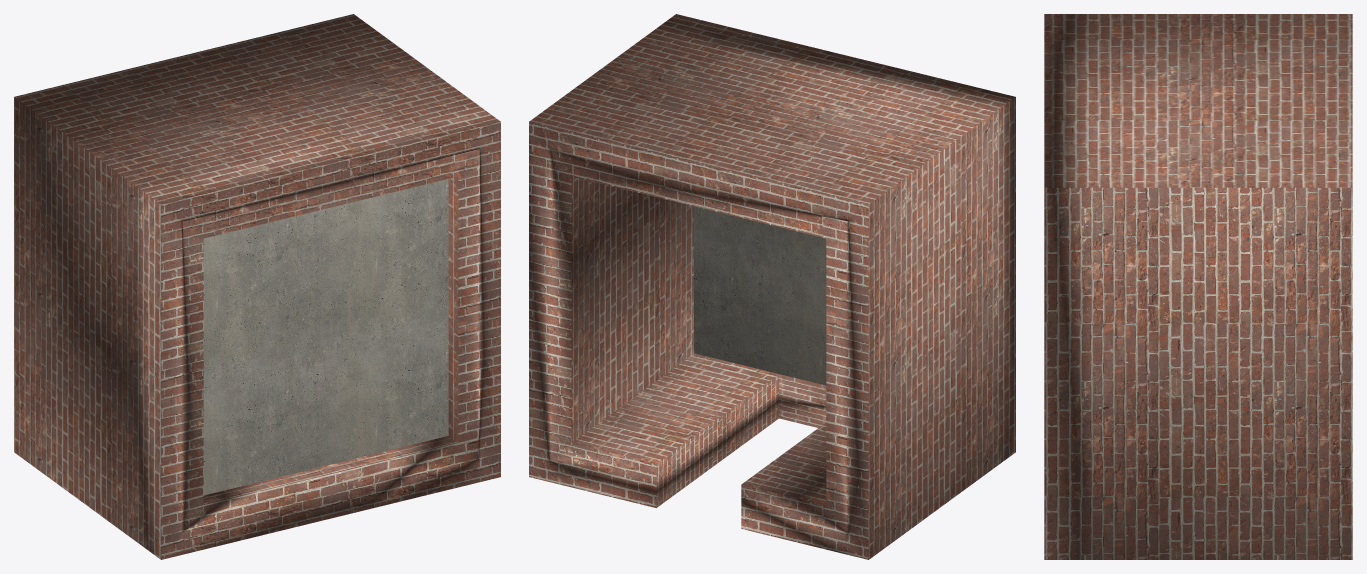
File: house3.DAE
The picture shows the model from 3 angles, left to right: view 1: azimuth 30°, elevation 25°; view 2: azimuth 150°, elevation 25°; view 3: azimuth 270°, elevation 25°; orthographic projection. The views are drawn at different scales.
Parts seen in each view (by area): view 1: adventureplaygound01a; view 2: adventureplaygound01a; view 3: adventureplaygound01a.
Boxes of the visible parts, x1,y1,x2,y2 form: adventureplaygound01a: (14, 14, 500, 559); adventureplaygound01a: (529, 14, 1015, 559); adventureplaygound01a: (1044, 14, 1352, 559).
Size of the model in its own units: 157 by 157 by 118.
